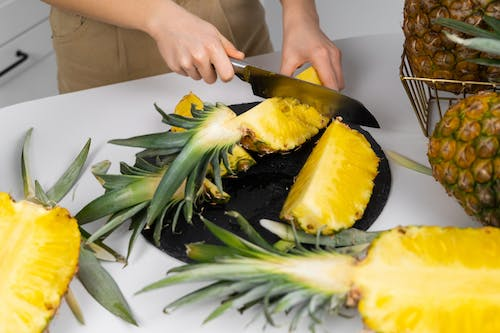knife: (227, 52, 382, 129)
